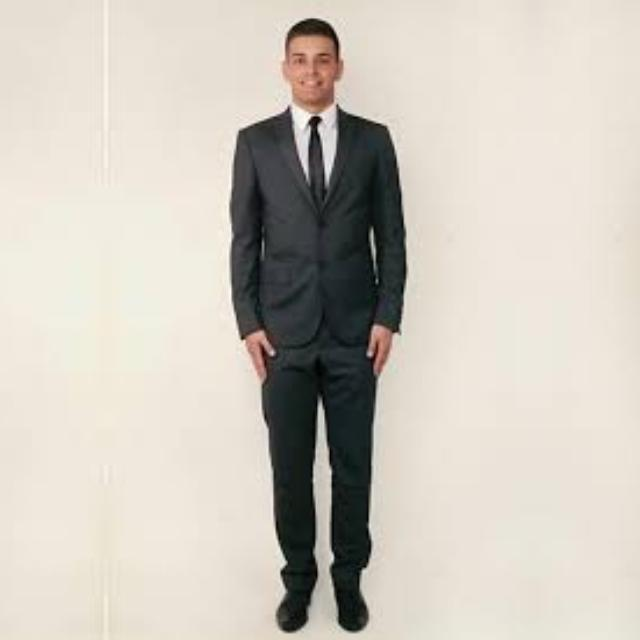person: (220, 0, 442, 640), (185, 11, 425, 407), (205, 16, 389, 198), (624, 0, 640, 640), (0, 11, 25, 407), (0, 16, 5, 197)
